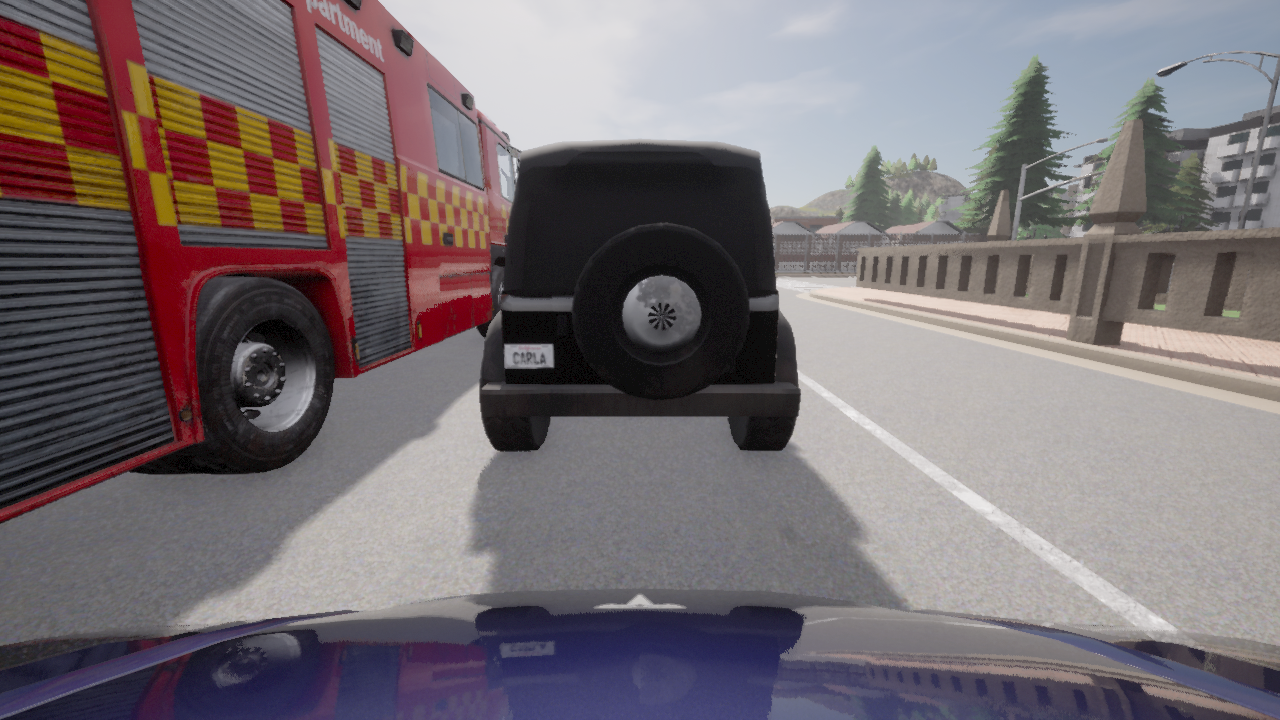cyclist: (0, 588, 1279, 719), (480, 139, 800, 450)
